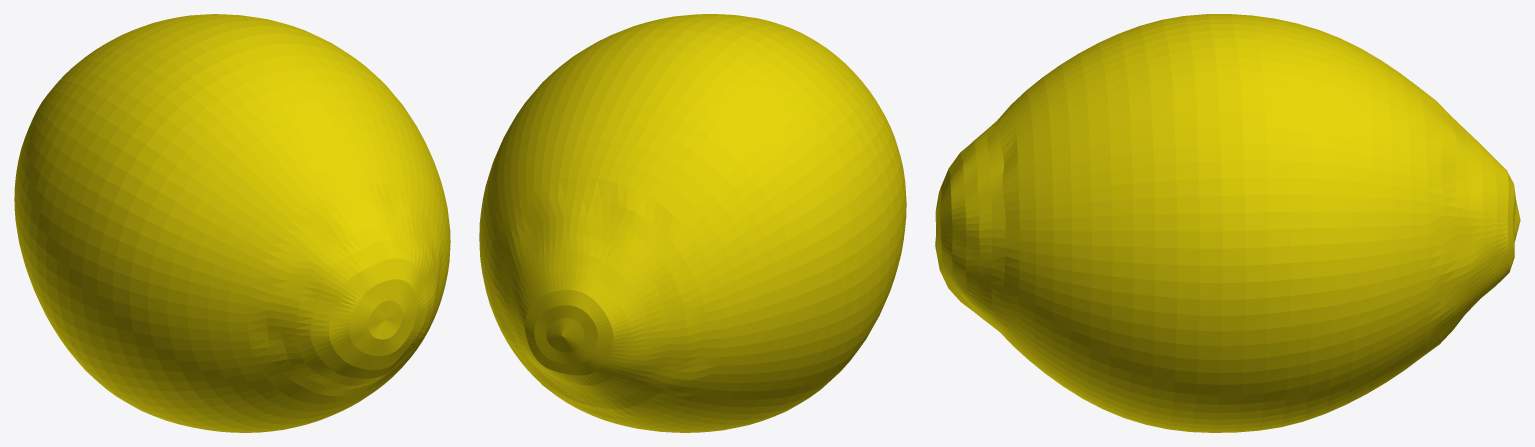
The model's file is lemon.gltf.
3 views of the same model, side by side, from view 1: azimuth 30°, elevation 25°; view 2: azimuth 150°, elevation 25°; view 3: azimuth 270°, elevation 25° (orthographic). The views are drawn at different scales.
Visible parts, largest first — view 1: Sphere01; view 2: Sphere01; view 3: Sphere01.
Part boxes in pixels (x1,y1,x2,y2): Sphere01: [14, 14, 450, 432]; Sphere01: [479, 14, 906, 432]; Sphere01: [935, 14, 1520, 432].
Size of the model in its own units: 0.6231 by 0.6285 by 0.8682.
